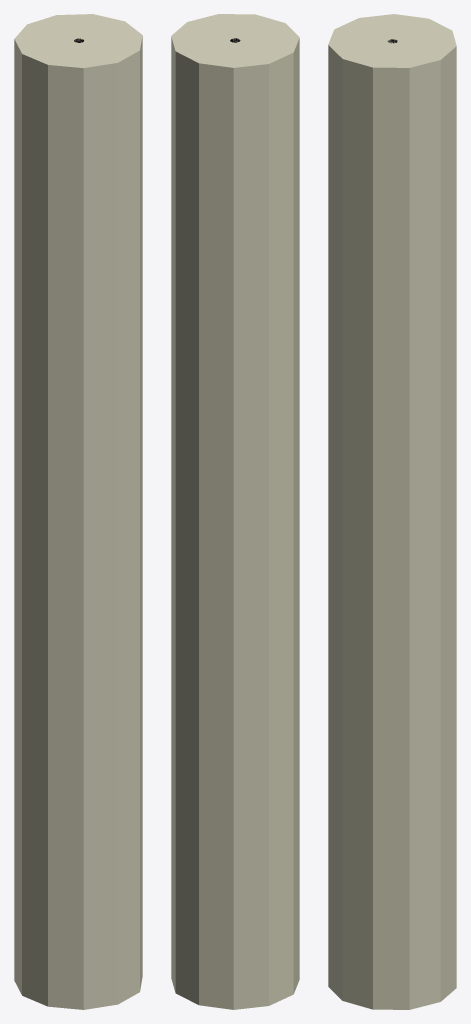
File: tile_85.glb
3 views of the same model, side by side, from view 1: azimuth 90°, elevation 25°; view 2: azimuth 150°, elevation 25°; view 3: azimuth 330°, elevation 25° (orthographic).
Size of the model in its own units: 0.2468 by 2 by 0.2468.
